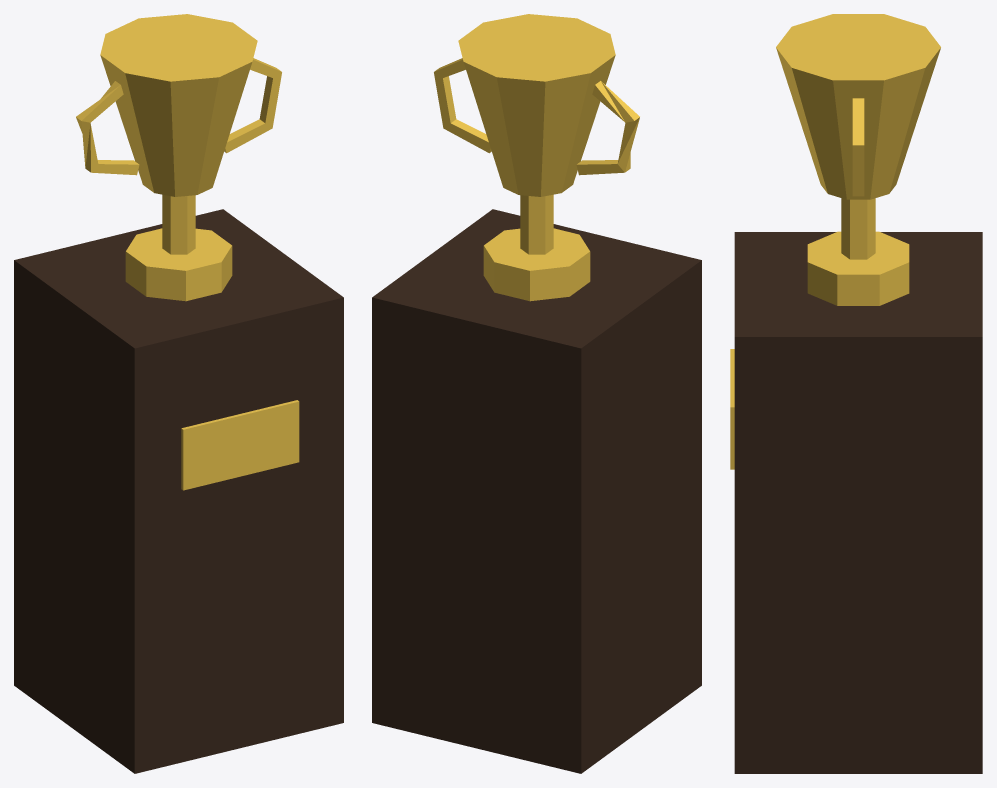
Rendered from trophy_stand.ca70e85daa8f.glb.
The picture shows the model from 3 angles, left to right: view 1: azimuth 30°, elevation 25°; view 2: azimuth 150°, elevation 25°; view 3: azimuth 270°, elevation 25°; orthographic projection. The views are drawn at different scales.
Parts seen in each view (by area): view 1: trophy_stand; view 2: trophy_stand; view 3: trophy_stand.
Part boxes in pixels (x1,y1,x2,y2): trophy_stand: (14, 14, 343, 773); trophy_stand: (372, 14, 701, 773); trophy_stand: (730, 14, 982, 773).
Size of the model in its own units: 0.36 by 1.08 by 0.366.
